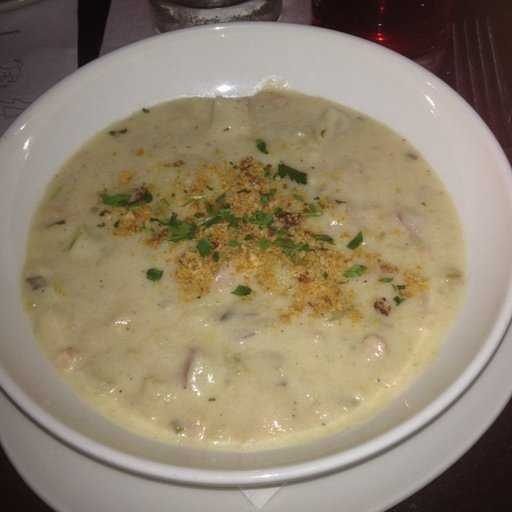soup: (31, 97, 438, 439)
